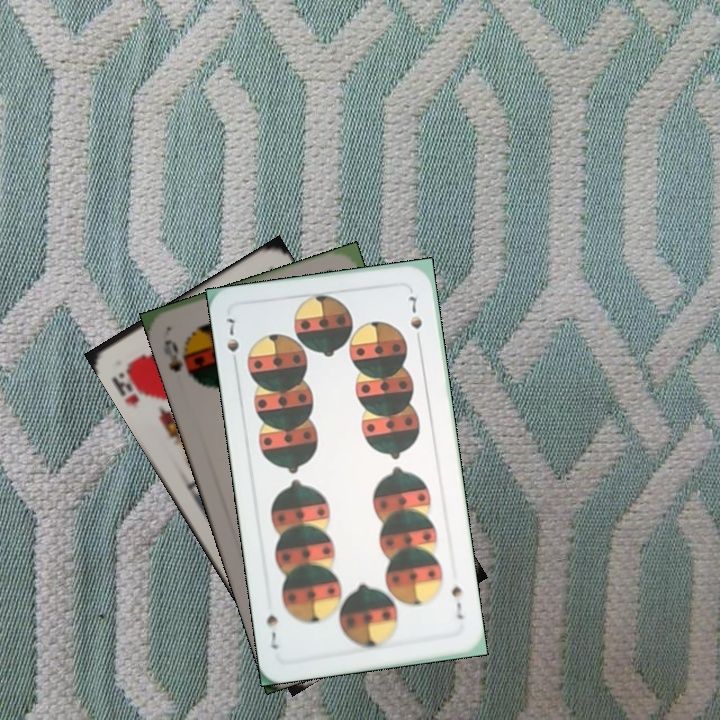HK: (107, 360, 149, 409)
S7: (222, 314, 242, 355), (447, 582, 467, 622)
SO: (159, 335, 198, 384)
